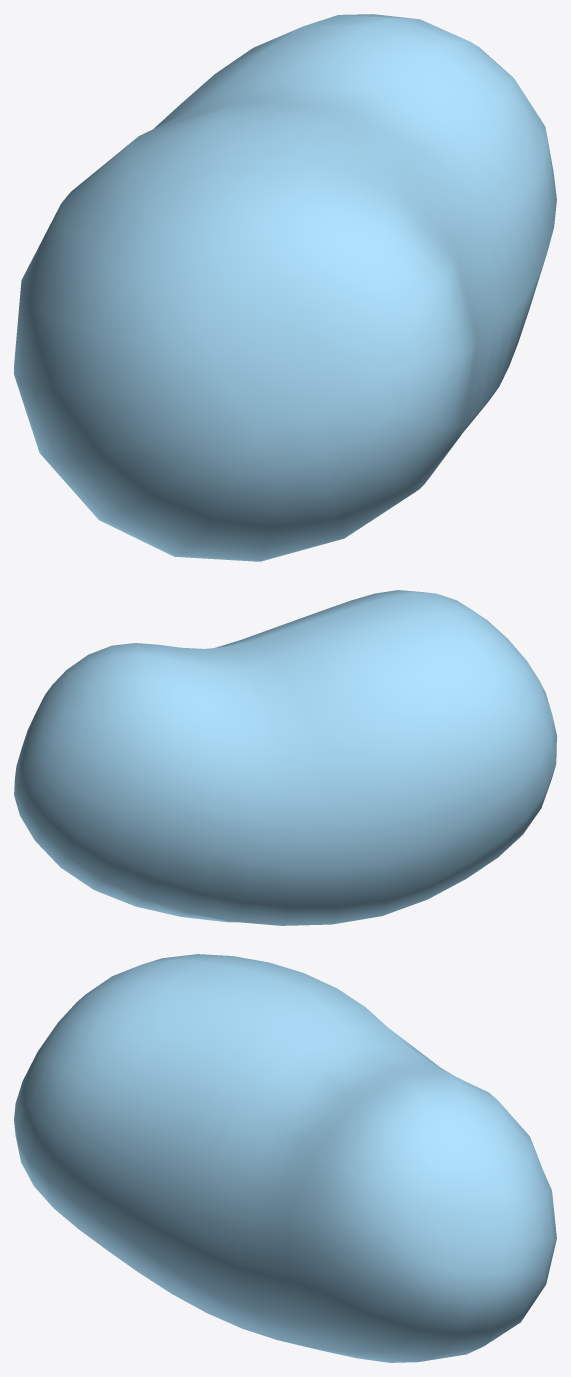
Rendered from vacuole_hd.fbx.
3 views of the same model, one above another, from view 1: azimuth 30°, elevation 25°; view 2: azimuth 150°, elevation 25°; view 3: azimuth 270°, elevation 25° (orthographic). The views are drawn at different scales.
Parts seen in each view (by area): view 1: Vacuoli_2; view 2: Vacuoli_2; view 3: Vacuoli_2.
Boxes of the visible parts, x1=… form: Vacuoli_2: x1=14, y1=14, x2=556, y2=561; Vacuoli_2: x1=14, y1=590, x2=556, y2=925; Vacuoli_2: x1=14, y1=954, x2=556, y2=1362.
Size of the model in its own units: 189 by 119 by 186.
